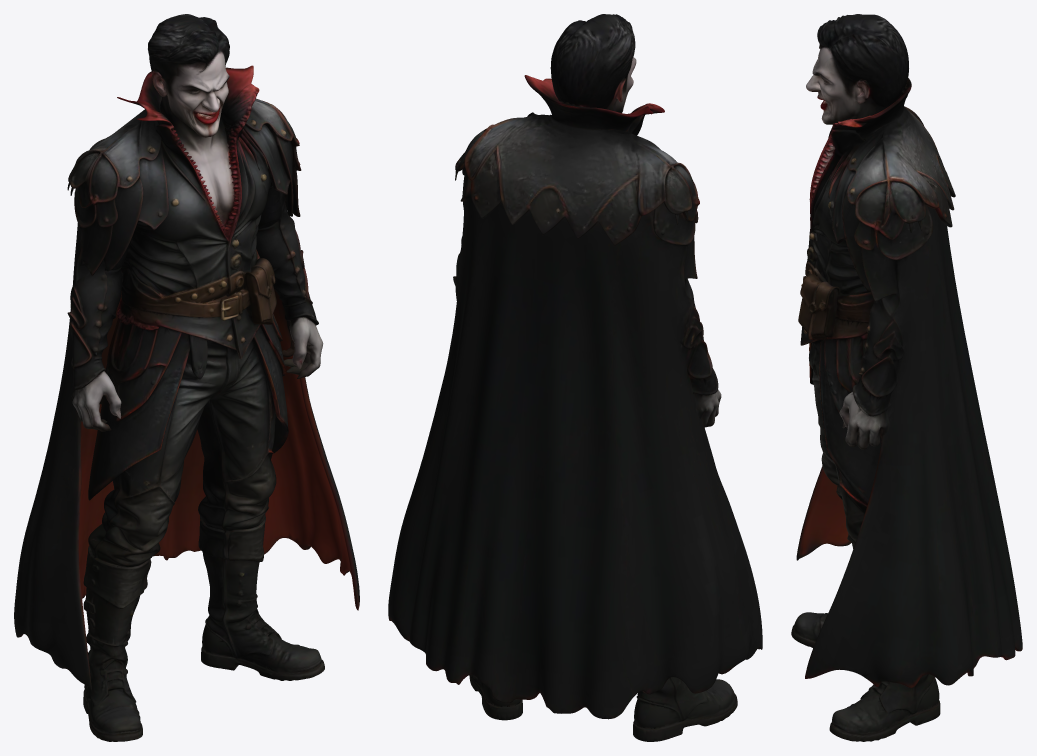
File: vampire_spawn.glb
3 renders of one model, left to right at view 1: azimuth 30°, elevation 25°; view 2: azimuth 150°, elevation 25°; view 3: azimuth 270°, elevation 25°, orthographic. The views are drawn at different scales.
Visible parts, largest first — view 1: material; view 2: material; view 3: material.
Boxes of the visible parts, bbox=[...] form: material: bbox=[14, 14, 359, 741]; material: bbox=[388, 14, 762, 741]; material: bbox=[791, 14, 1022, 741].
Bounding box in the file's own units: 0.5491 × 1.1 × 0.3464.
1 material, 1 textured.
